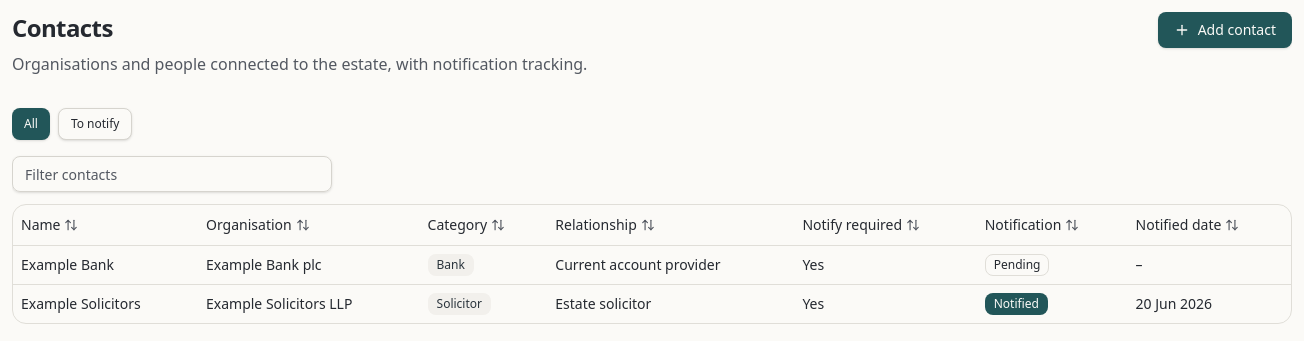
Test case: ContactsPage › filters to contacts still needing notification with the To notify preset
expect the text "Example Solicitors" is shown: met, box [13,284,198,322]
Click the button "To notify" at x=95, y=124, box [58,108,132,140]
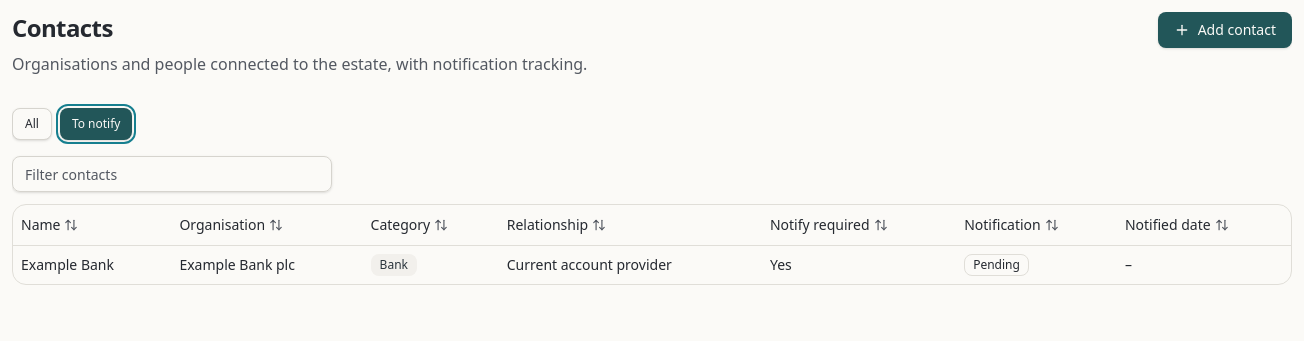
expect the text "Example Bank" is shown: met, box [13,245,171,284]
expect the text "Example Solicitors" is gone: met
